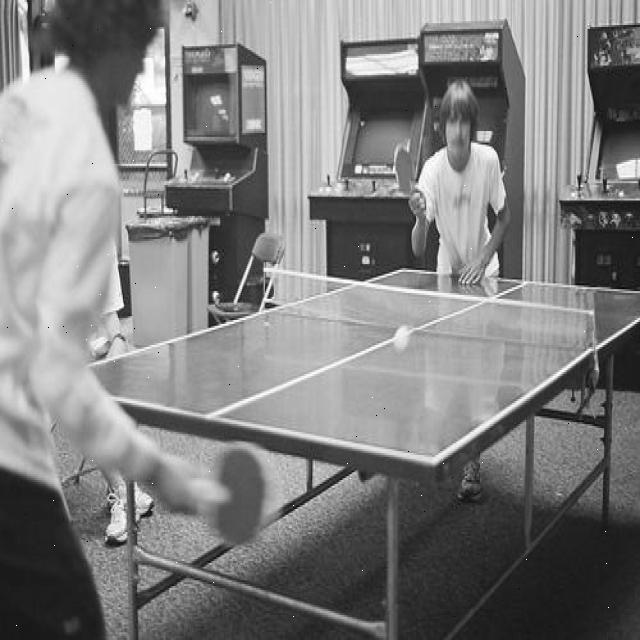ping-pong-ball: (394, 325, 411, 353)
